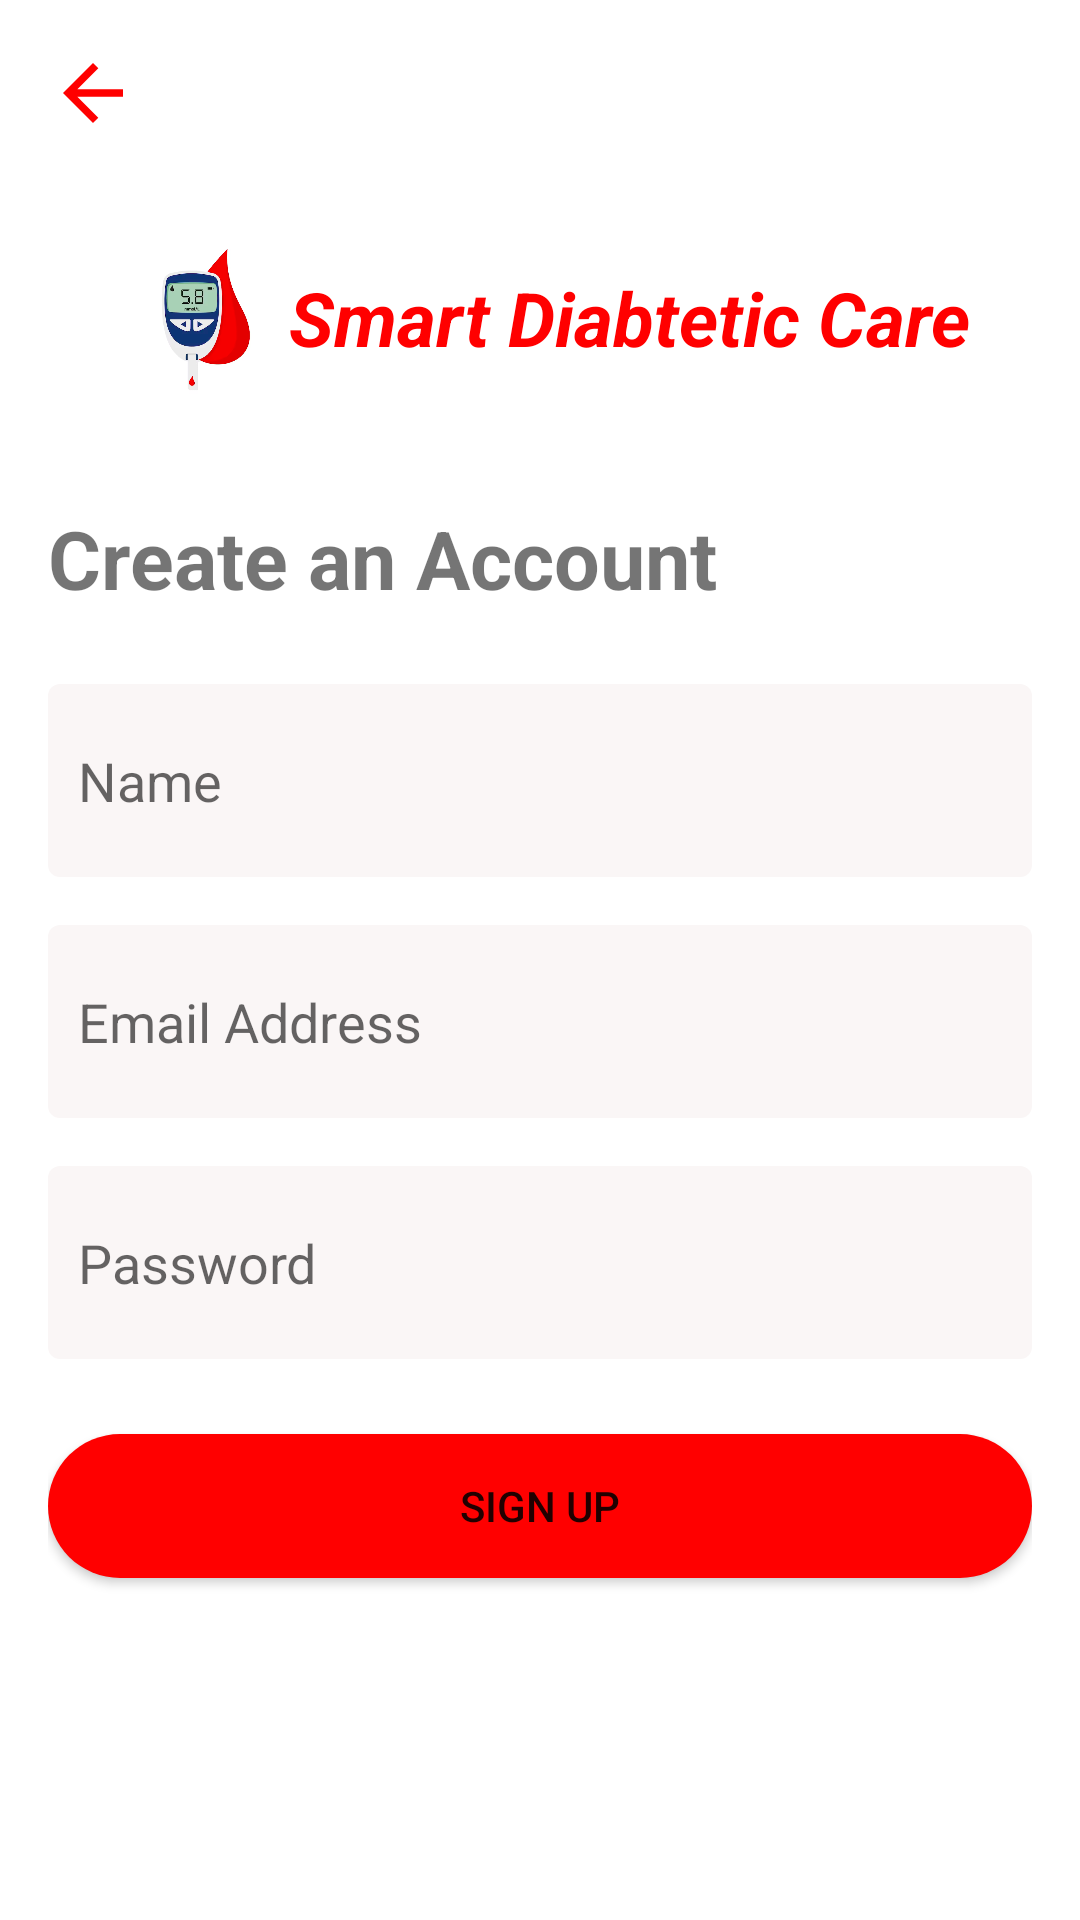

Point at icon controls on the screen. Image size 1080×1920, points as (x,y).
Back: (93,93)
